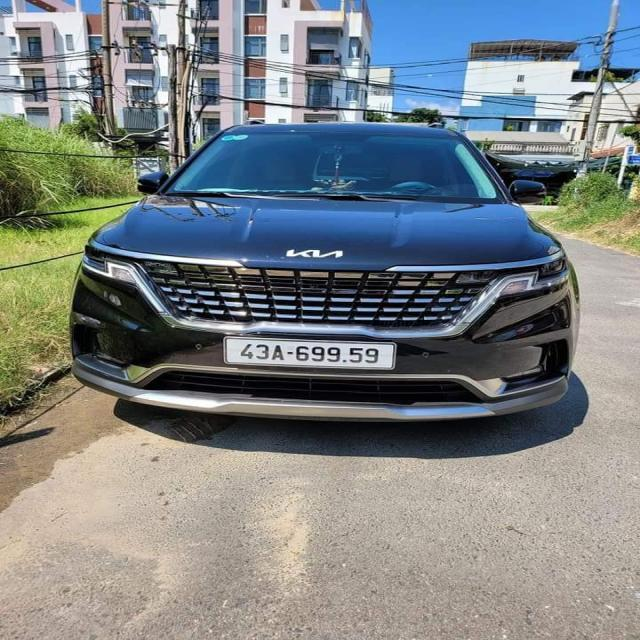car: (59, 115, 585, 435)
plate: (222, 331, 401, 377)
